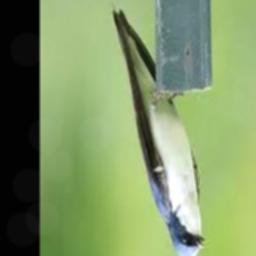Swallow: (112, 9, 207, 256)
